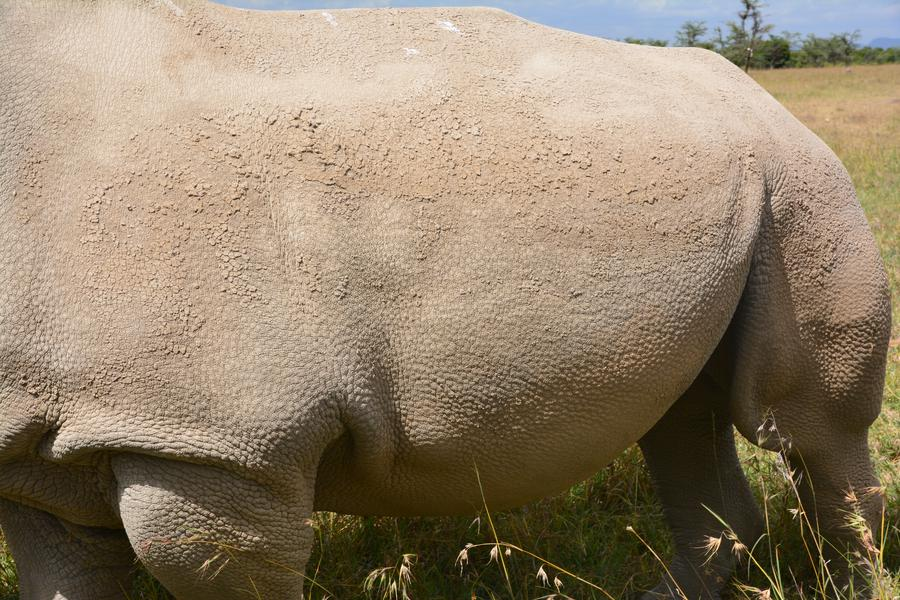rhino: (17, 14, 862, 563)
